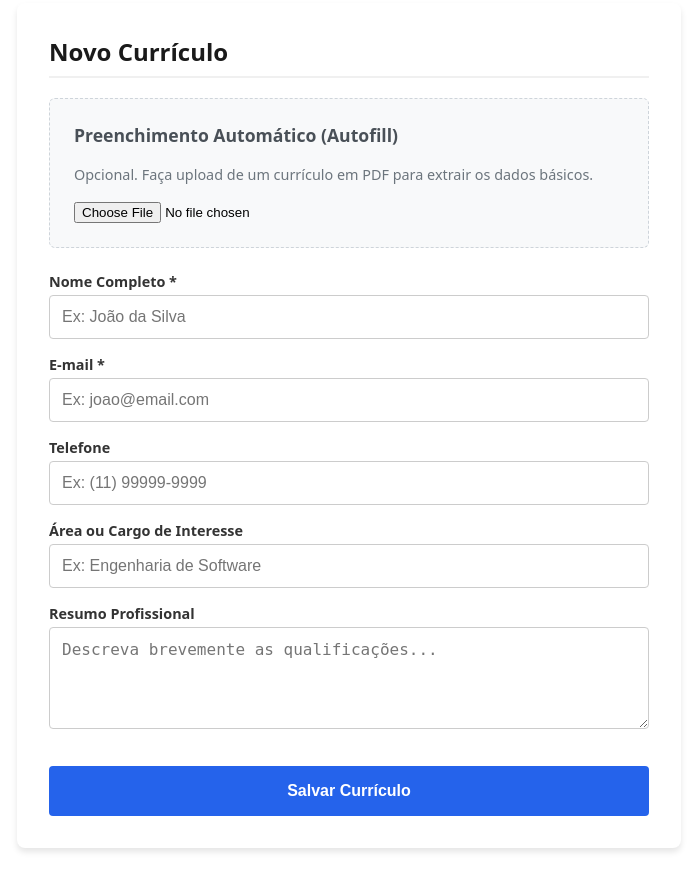
Scenario: ResumeForm Component - Novos Requisitos › Deve exibir erro de validação se Nome e Email estiverem vazios na submissão manual
Click the button "Salvar Currículo".
click(349, 790)  # box [49,766,649,816]
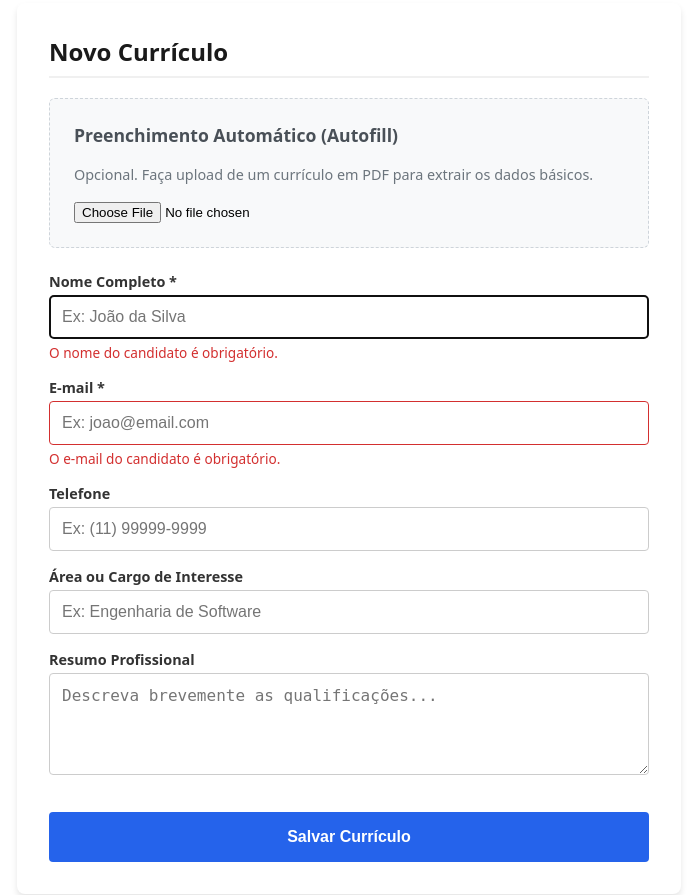
Expected: the text "O nome do candidato é obrigatório." is shown, [49,342,278,362]
Expected: the text "O e-mail do candidato é obrigatório." is shown, [49,448,280,468]
